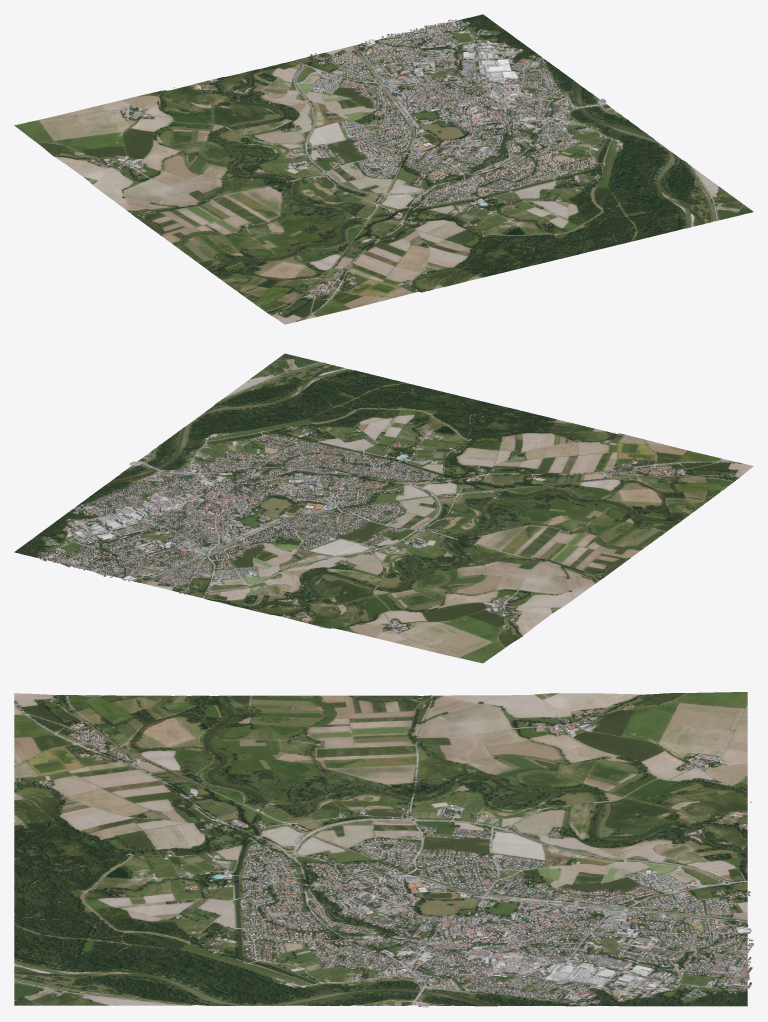
Rendered from asset.glb.
3 views of the same model, one above another, from view 1: azimuth 30°, elevation 25°; view 2: azimuth 150°, elevation 25°; view 3: azimuth 270°, elevation 25° (orthographic). The views are drawn at different scales.
Visible parts, largest first — view 1: DGM_20m_Moosburg, Dach, Wand; view 2: DGM_20m_Moosburg, Dach, Wand; view 3: DGM_20m_Moosburg, Dach, Wand.
Boxes of the visible parts, x1,y1,x2,y2 form: DGM_20m_Moosburg: (14, 14, 753, 324); Dach: (74, 19, 721, 313); Wand: (74, 20, 721, 313); DGM_20m_Moosburg: (14, 353, 753, 663); Dach: (38, 368, 733, 631); Wand: (38, 369, 733, 632); DGM_20m_Moosburg: (14, 692, 747, 1006); Dach: (14, 698, 753, 1006); Wand: (14, 698, 753, 1007).
Bounding box in the file's own units: 4005 × 275 × 4017.
Materials: 7 (3 with a texture image).
